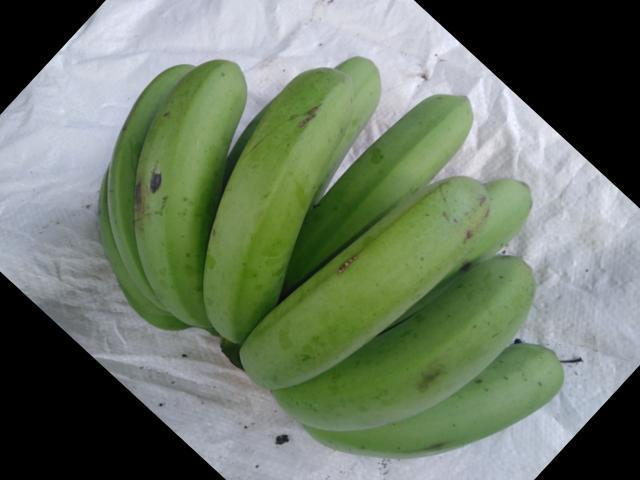unripe: (232, 171, 486, 402), (296, 245, 542, 442), (209, 60, 350, 358), (129, 41, 237, 361)
